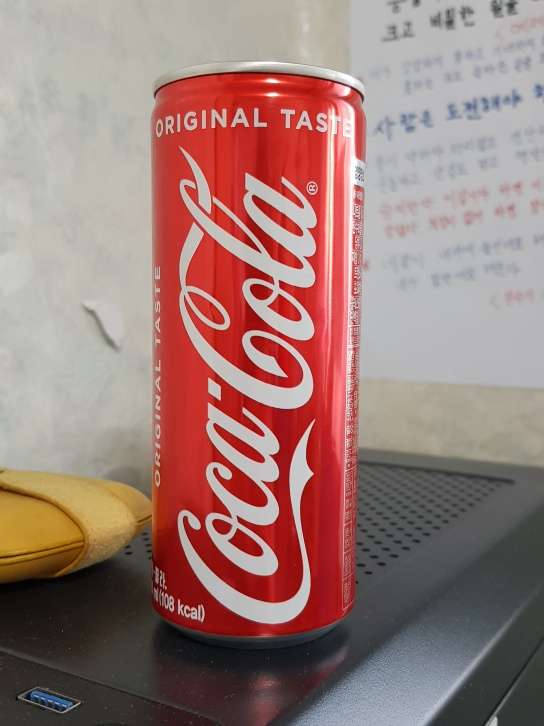Can: (146, 59, 370, 655)
